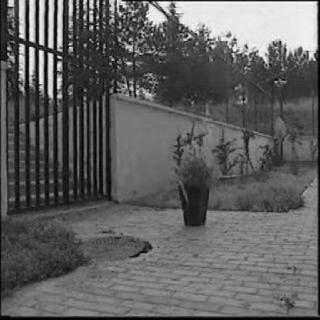Fire: (196, 105, 217, 152)
